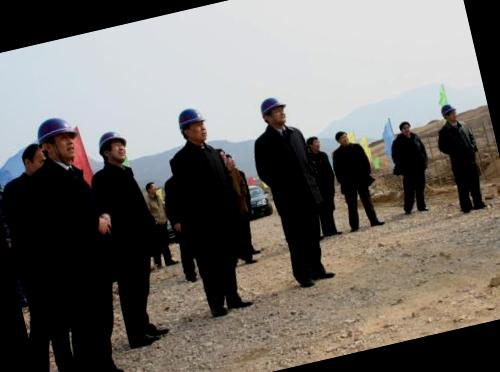no_helmet: (94, 127, 136, 173), (15, 136, 49, 176), (303, 131, 324, 155), (332, 128, 354, 150), (142, 178, 161, 200), (397, 117, 414, 137)
